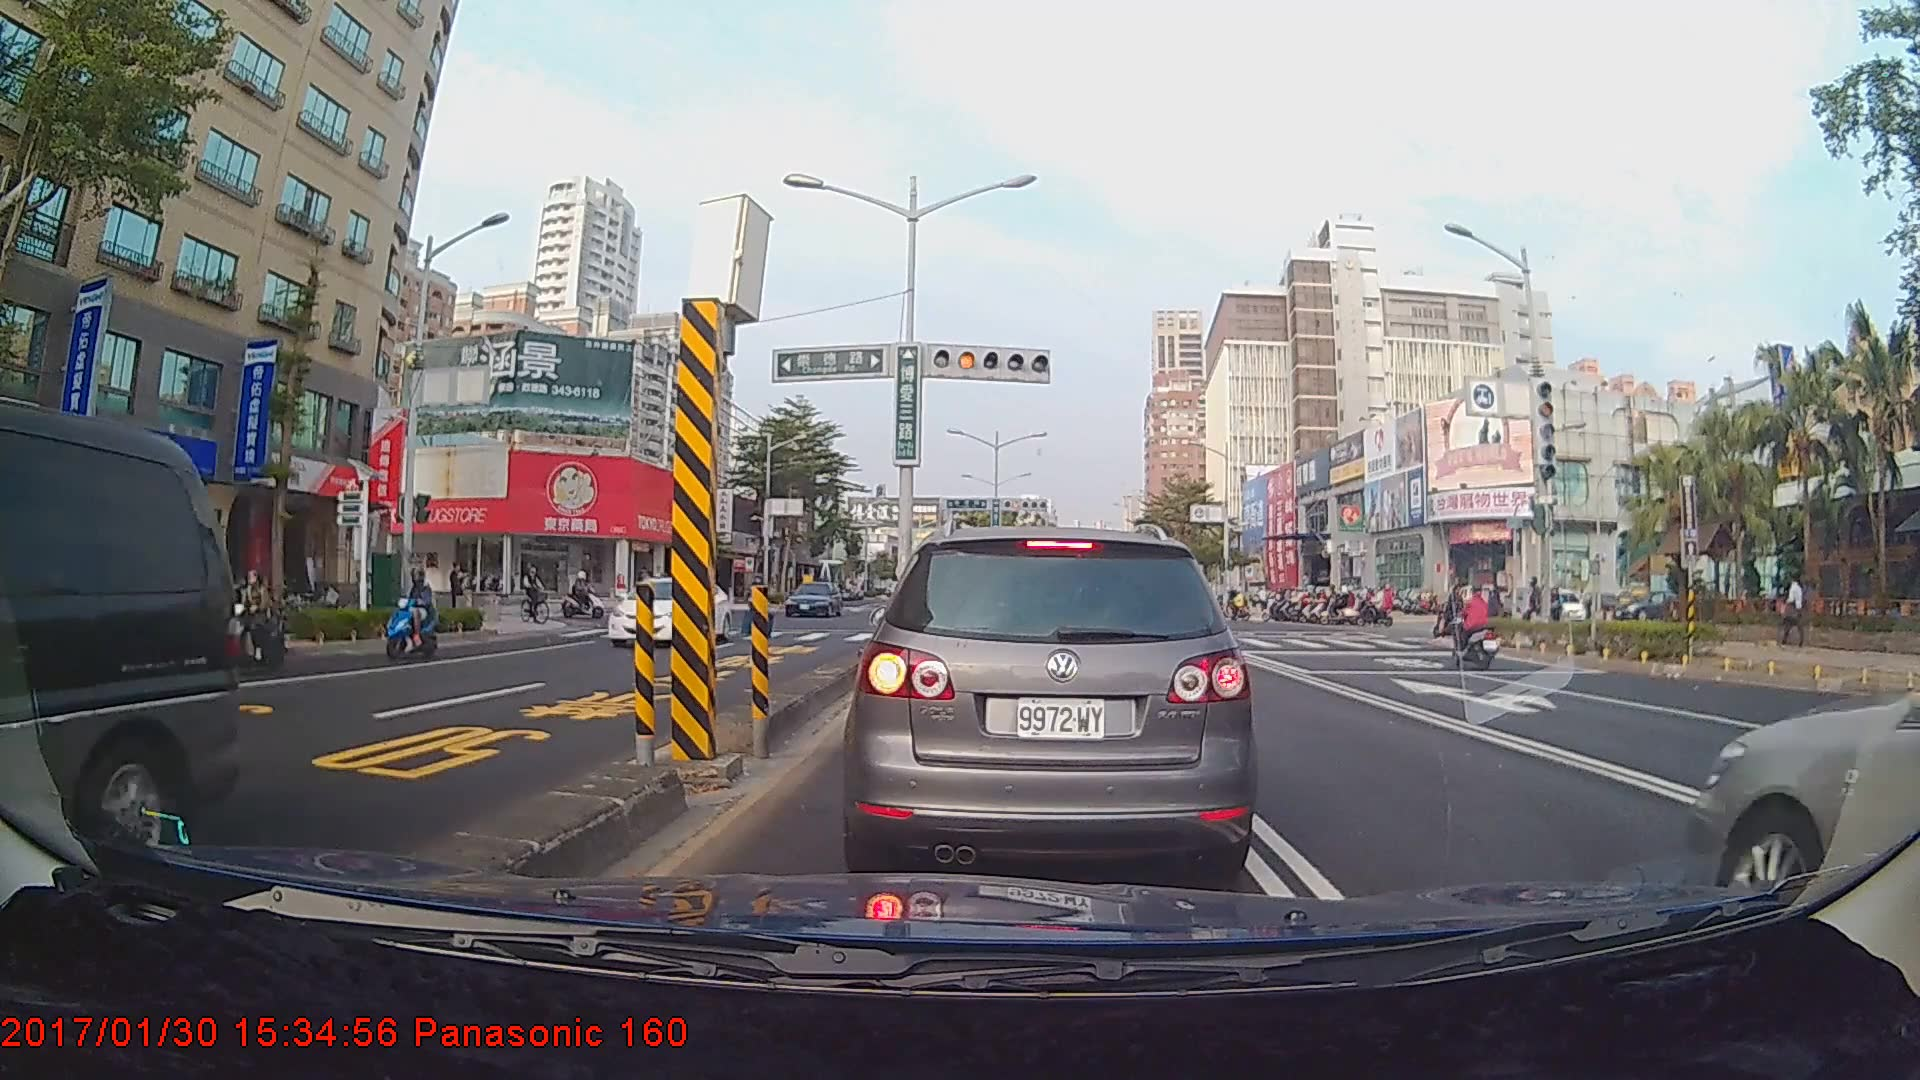pedestrian: (1780, 574, 1807, 648), (448, 558, 468, 621)
rider: (197, 564, 282, 684), (382, 554, 441, 668), (1450, 584, 1507, 673), (561, 568, 613, 625), (518, 559, 553, 629), (1436, 582, 1473, 646)
vehicle: (853, 522, 1247, 883), (0, 398, 243, 908), (1690, 525, 1920, 1060), (605, 574, 733, 649), (783, 578, 841, 618)
